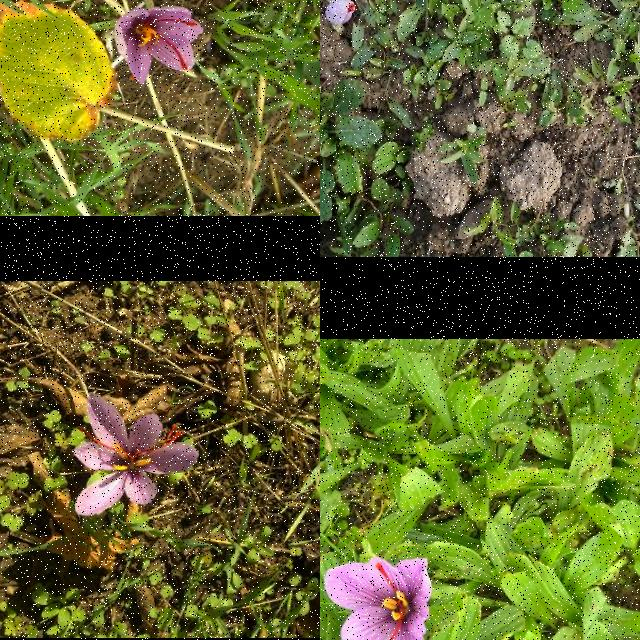flower: (76, 394, 200, 516), (323, 554, 433, 640), (116, 6, 204, 86), (326, 0, 355, 25)
